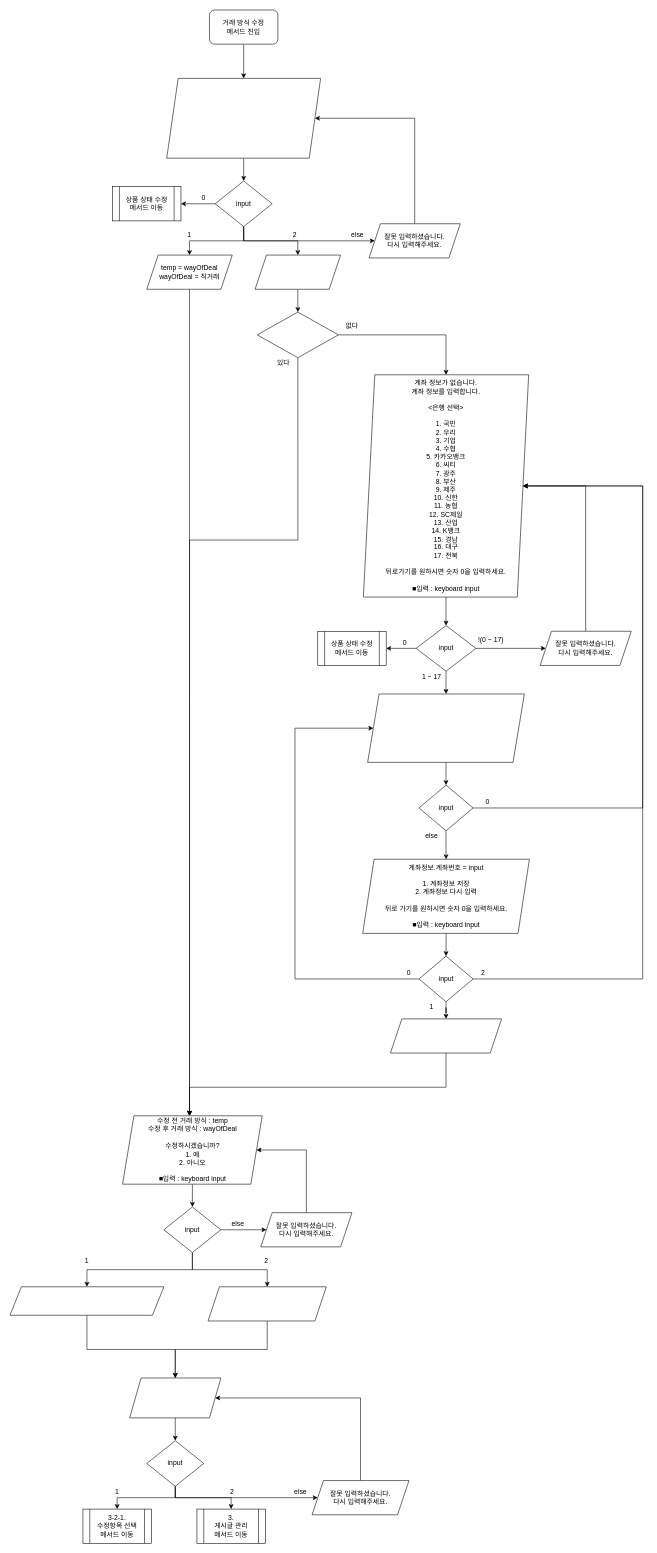
The diagram is 657 pixels wide and 1553 high, and some of its shapes have lost their labels. Each missing label, with the centre of its shape:
"1. 추가 수정하기 2. 나가기 ■입력 : keyboard input" belongs at pixel 175 1397.
"temp = wayOfDeal wayOfDeal = 안심거래" belongs at pixel 298 272.
"wayOfDeal = temp 수정이 취소되었습니다." belongs at pixel 266 1303.
"거래 방식 선택 1. 직거래 2. 안심거래 뒤로가기를 원하시면 숫자 0을 입력하세요. ■입력 :" belongs at pixel 243 118.
"거래 방식이 wayOfDeal 수정되었습니다." belongs at pixel 86 1300.
"계좌 정보가 저장되었습니다." belongs at pixel 446 1035.
"계좌정보" belongs at pixel 297 335.
"계좌정보.은행명 = input 은행명 계좌번호를 입력해주세요. 뒤로가기를 원하시면 숫자 0을 입력하세요. ■입력 : keyboard input" belongs at pixel 445 727.
